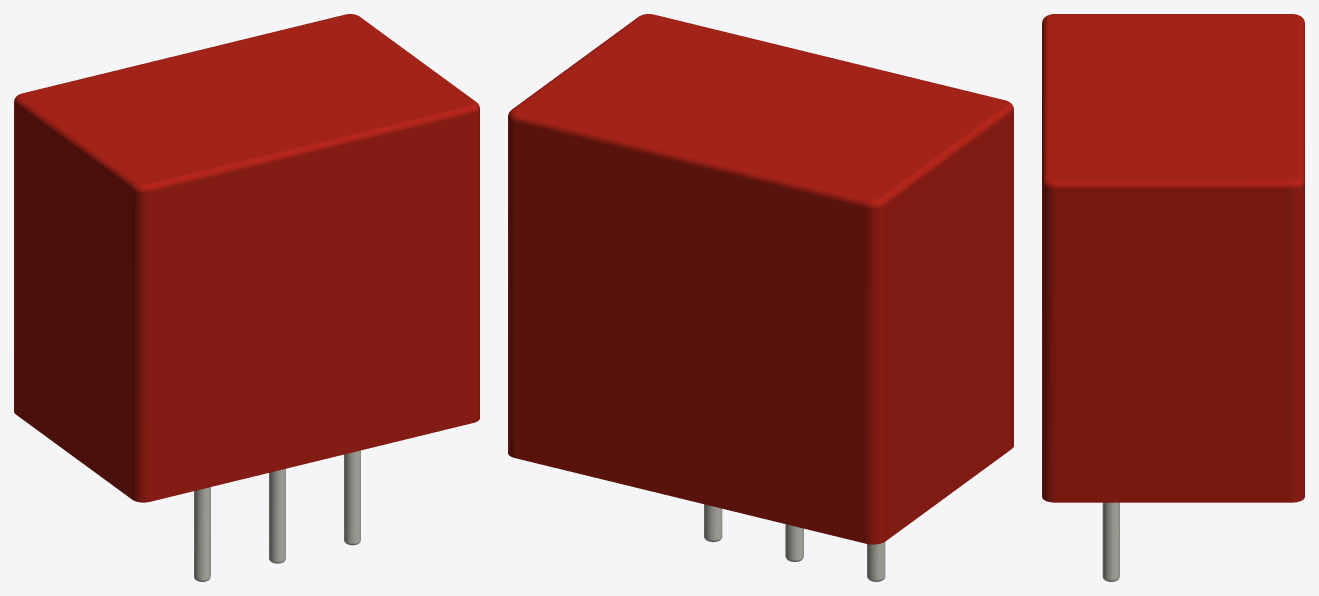
Rendered from kc-converter_dcdc_traco_tsr-1_tht.glb.
3 renders of one model, left to right at view 1: azimuth 30°, elevation 25°; view 2: azimuth 150°, elevation 25°; view 3: azimuth 270°, elevation 25°, orthographic. The views are drawn at different scales.
Visible parts, largest first — view 1: 0.4166666666666667_0_0_0, 0.6666666666666666_0.6666666666666666_0.5833333333333334_0.8; view 2: 0.4166666666666667_0_0_0, 0.6666666666666666_0.6666666666666666_0.5833333333333334_0.8; view 3: 0.4166666666666667_0_0_0, 0.6666666666666666_0.6666666666666666_0.5833333333333334_0.8.
Boxes of the visible parts, left/top/right/bottom form: 0.4166666666666667_0_0_0: left=14, top=14, right=479, bottom=502; 0.6666666666666666_0.6666666666666666_0.5833333333333334_0.8: left=194, top=450, right=360, bottom=581; 0.4166666666666667_0_0_0: left=508, top=14, right=1013, bottom=544; 0.6666666666666666_0.6666666666666666_0.5833333333333334_0.8: left=704, top=504, right=885, bottom=581; 0.4166666666666667_0_0_0: left=1042, top=14, right=1304, bottom=502; 0.6666666666666666_0.6666666666666666_0.5833333333333334_0.8: left=1102, top=502, right=1119, bottom=581.
Size of the model in its own units: 1.17 by 1.42 by 0.7601.
